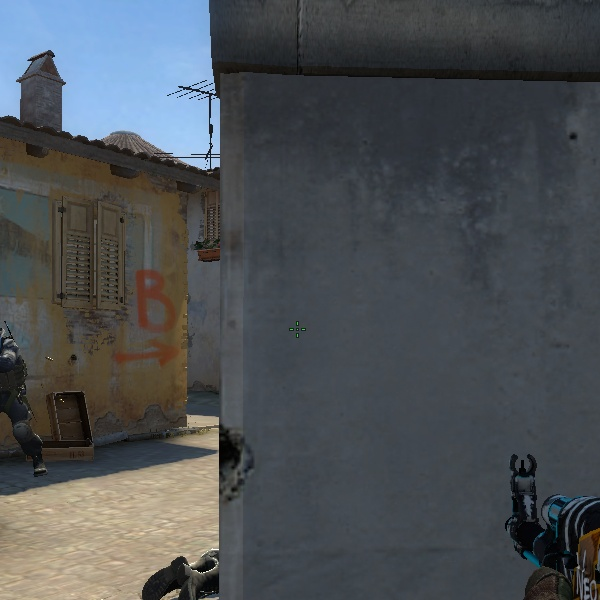ct_body: (0, 323, 45, 474)
